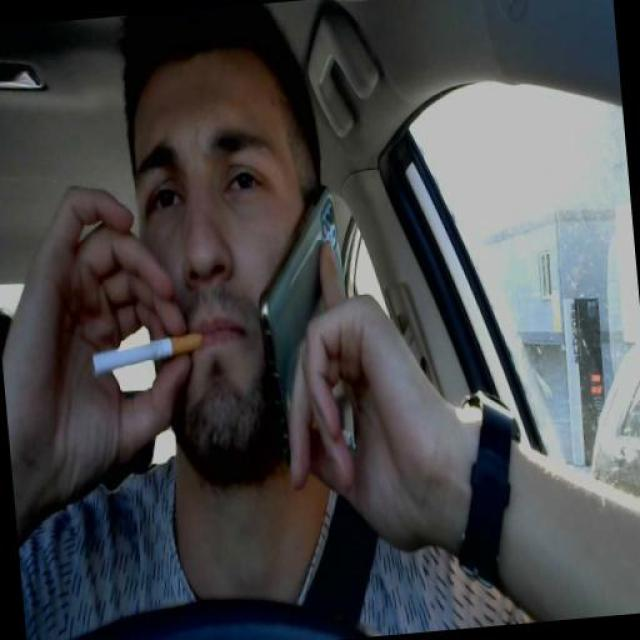phone: (264, 190, 352, 384)
